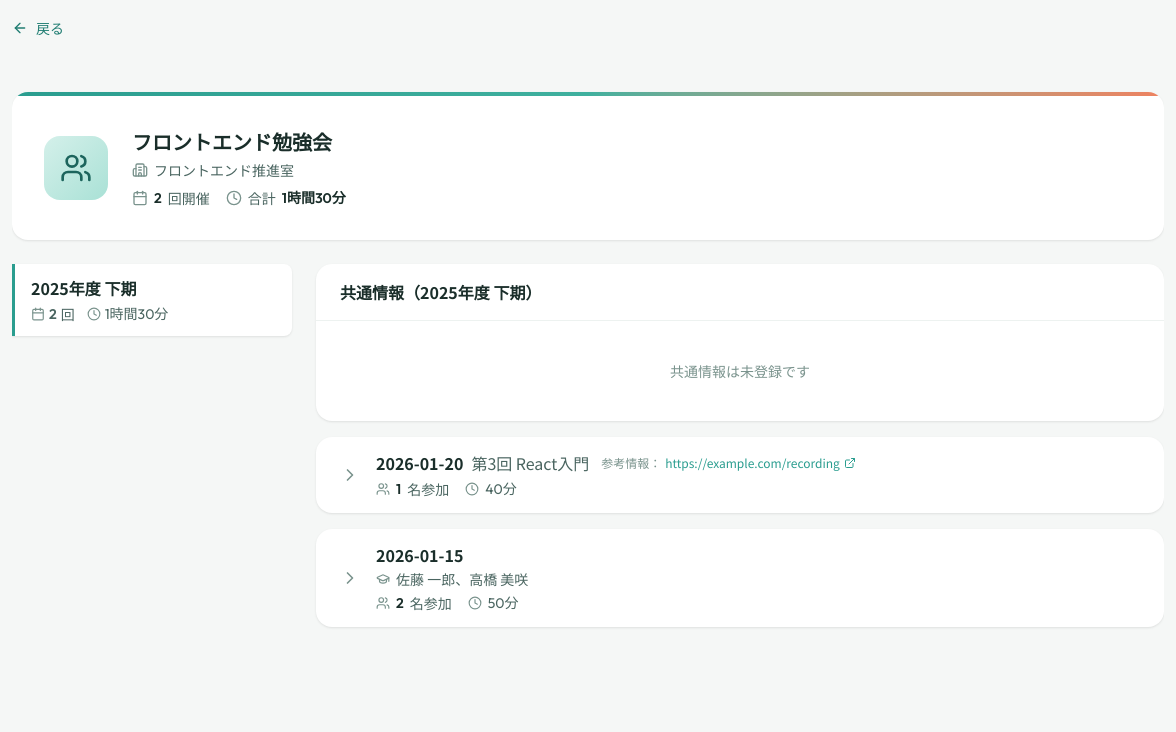
Test: GroupDetailPage › セッションをクリックして参加者テーブルを展開・折りたたみできること
expect the heading "フロントエンド勉強会" is shown: met, box top-left (132, 128), bottom-right (346, 156)
// セッションをクリックして展開
What coordinates should you click on to do the following:
click the text "2026-01-15"
I would click on:
 (420, 555)
Its box is top-left (376, 543), bottom-right (463, 567).
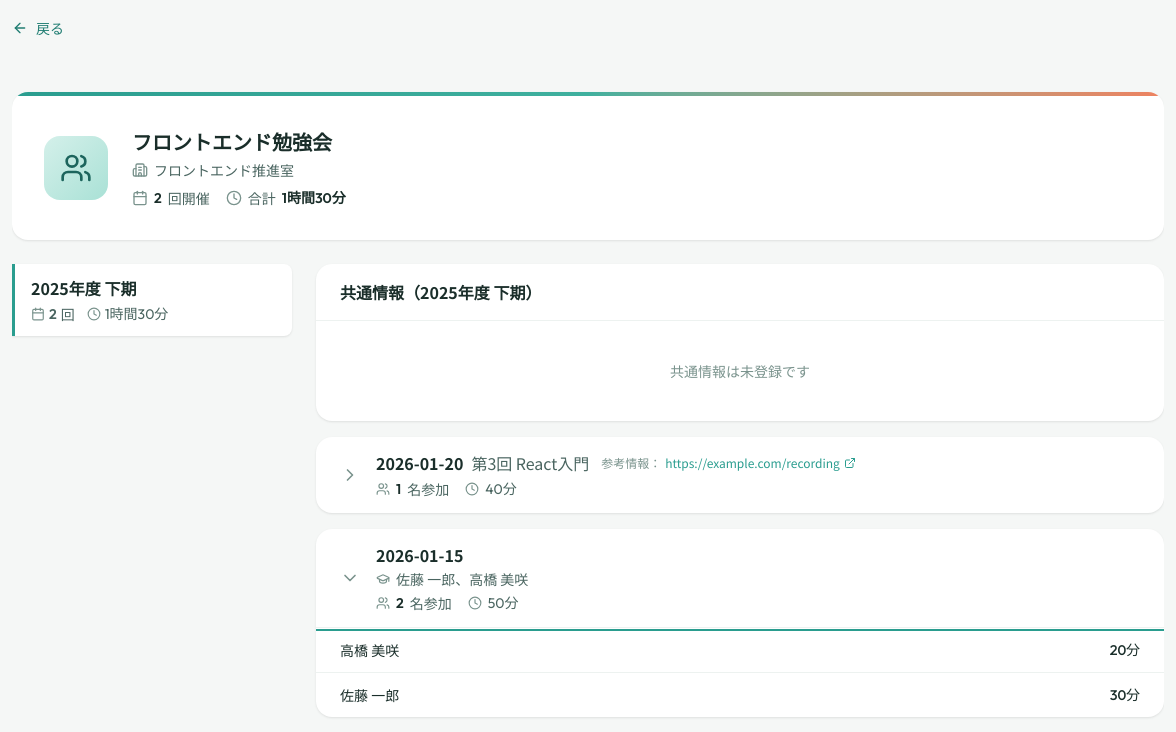
expect the table is shown: met, box top-left (316, 628), bottom-right (1164, 717)
expect the text "佐藤 一郎" is shown: met, box top-left (316, 672), bottom-right (805, 717)
expect the text "高橋 美咲" is shown: met, box top-left (316, 628), bottom-right (805, 672)
// 再クリックで折りたたみ
What coordinates should you click on to do the following:
click the text "2026-01-15"
I would click on:
 (420, 555)
Its box is top-left (376, 543), bottom-right (463, 567).
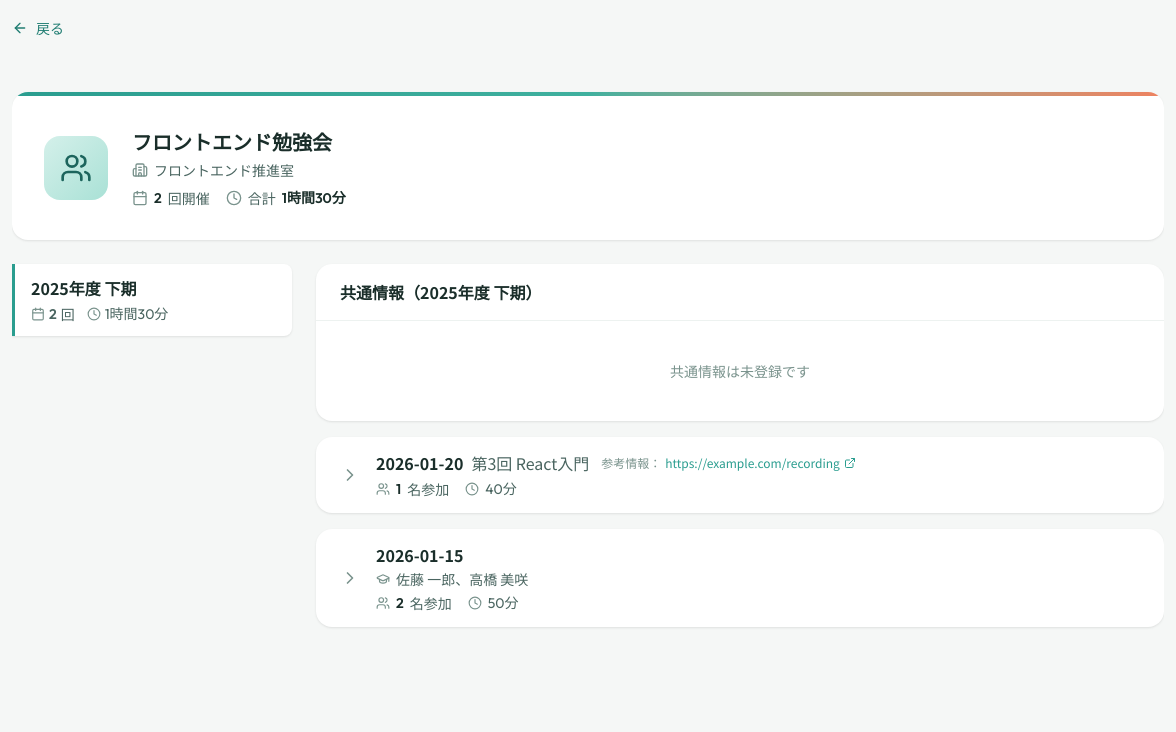
expect the table is gone: met
